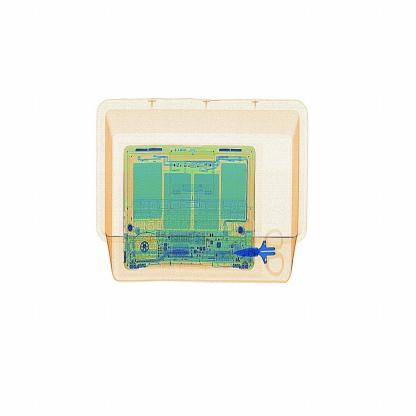gun: (225, 223, 298, 290)
